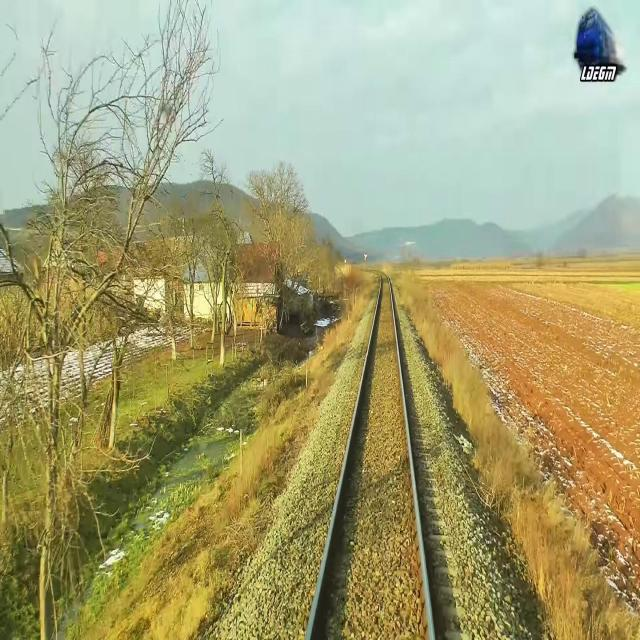rail-track: (310, 271, 430, 639)
